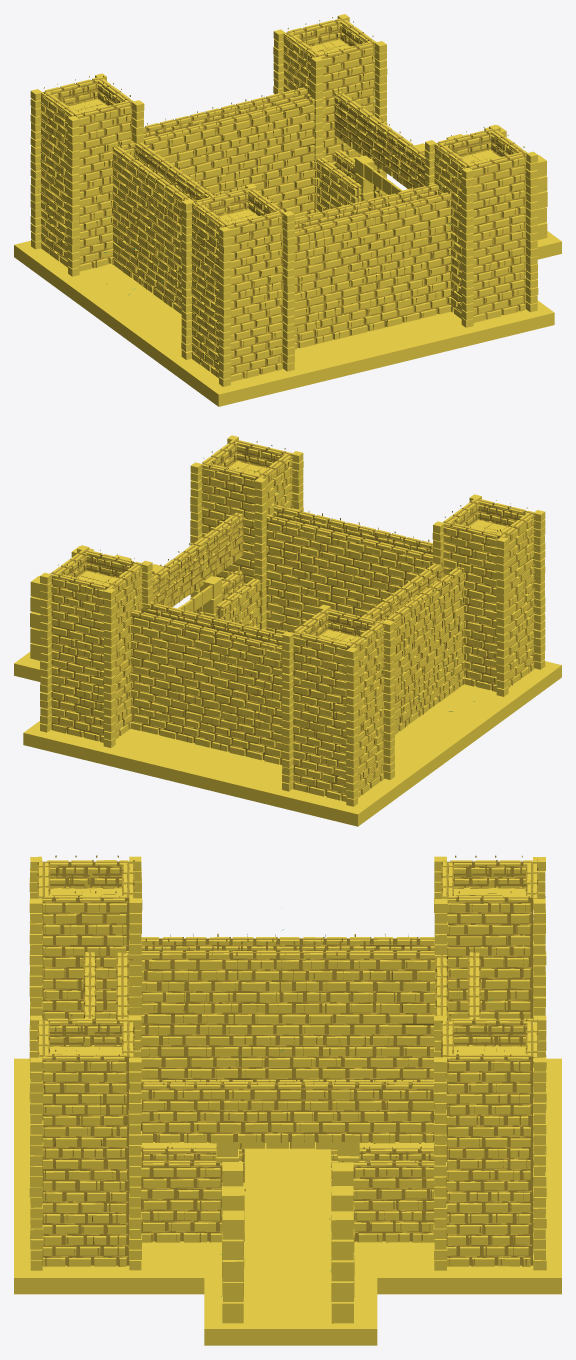
The model's file is openscad_osbk-castle.glb.
3 views of the same model, one above another, from view 1: azimuth 30°, elevation 25°; view 2: azimuth 150°, elevation 25°; view 3: azimuth 270°, elevation 25° (orthographic). The views are drawn at different scales.
Visible parts, largest first — view 1: object; view 2: object; view 3: object.
Boxes of the visible parts, bbox=[...] form: object: bbox=[14, 14, 561, 406]; object: bbox=[14, 435, 561, 826]; object: bbox=[14, 855, 561, 1345].
Bounding box in the file's own units: 14.62 × 5.58 × 12.06.
